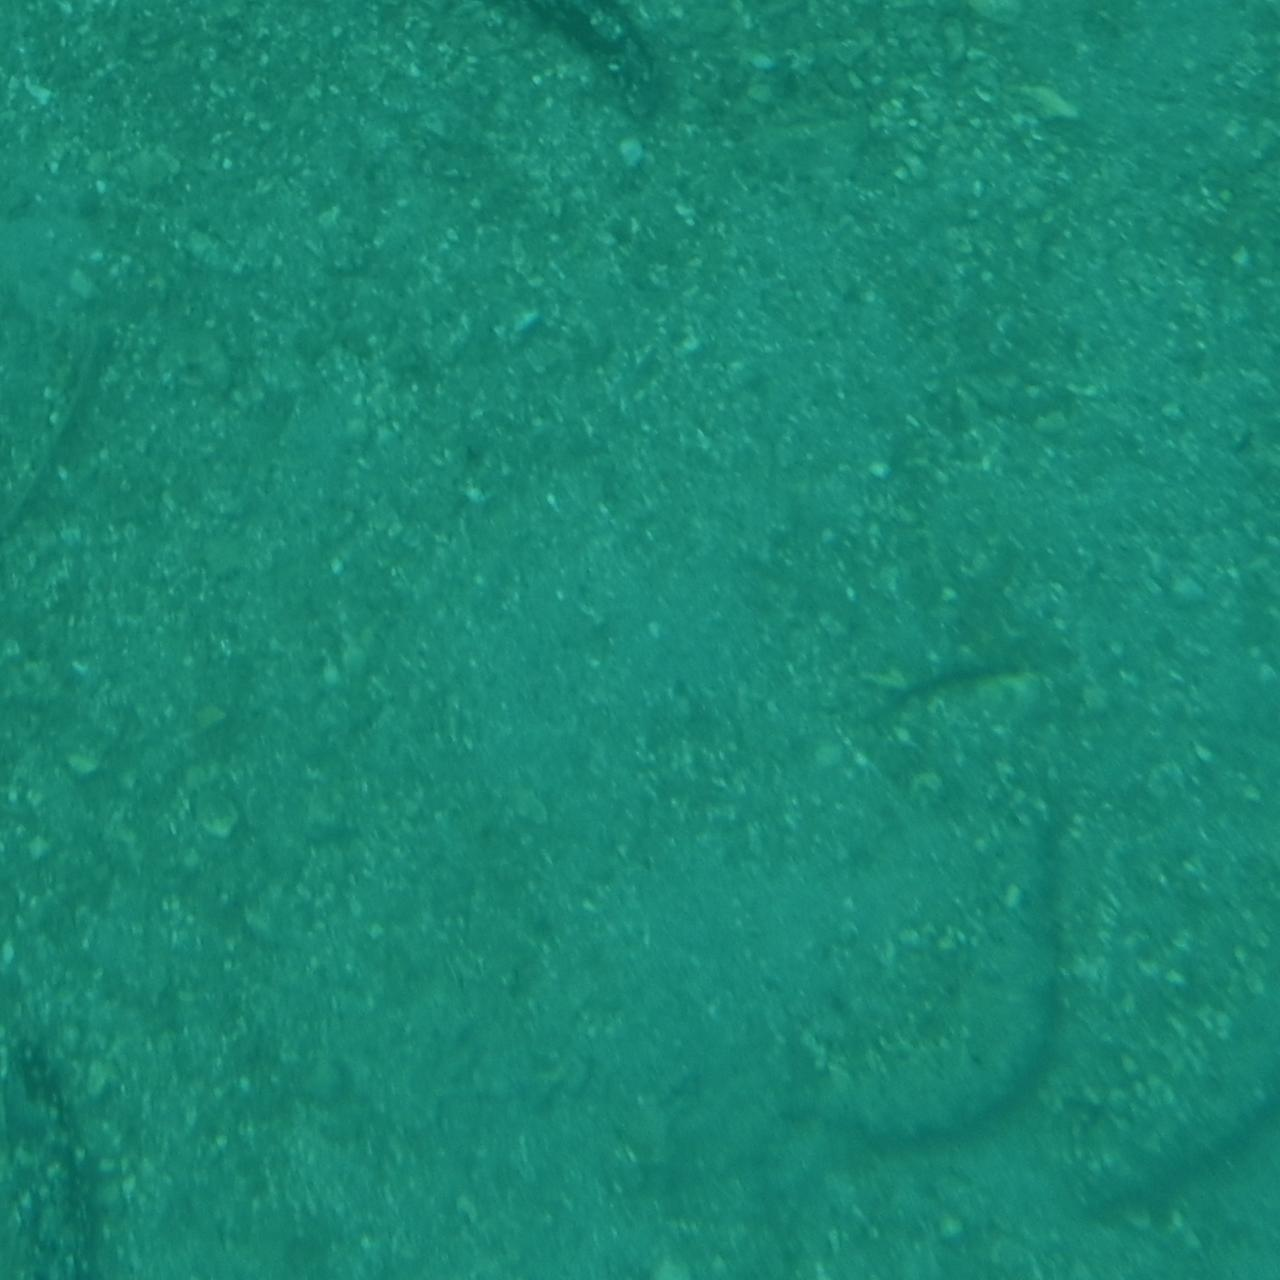Holothuria tubulosa: (802, 716, 1065, 1152), (1088, 891, 1280, 1221), (0, 1015, 132, 1279)
